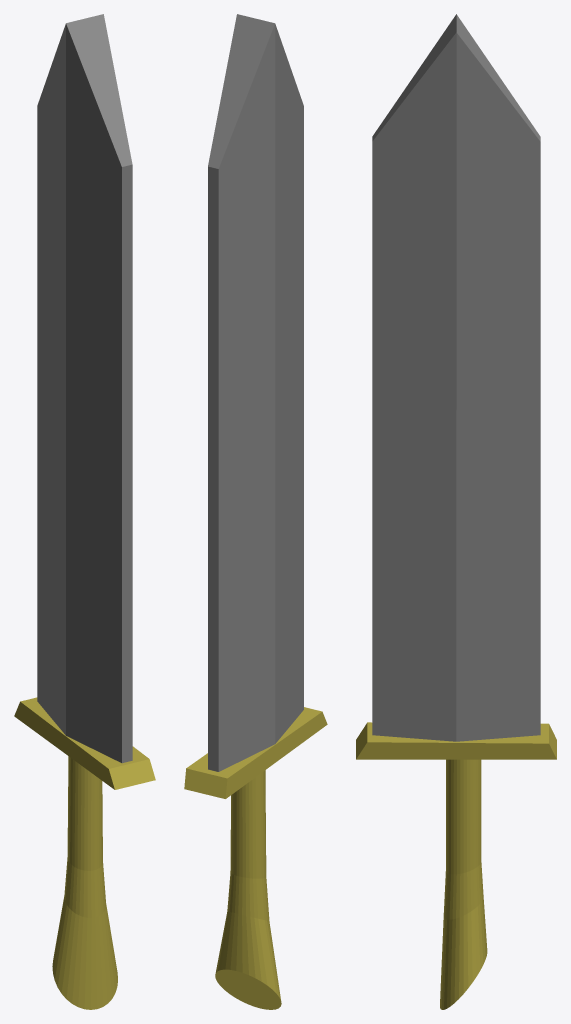
Rendered from NormalSword.fbx.
3 views of the same model, side by side, from view 1: azimuth 30°, elevation 25°; view 2: azimuth 150°, elevation 25°; view 3: azimuth 270°, elevation 25° (orthographic).
Visible parts, largest first — view 1: Cube.002, Cylinder.001, Cube.003; view 2: Cube.002, Cylinder.001, Cube.003; view 3: Cube.002, Cylinder.001, Cube.003.
Boxes of the visible parts, left/top/right/bottom form: Cube.002: left=37, top=14, right=132, bottom=763; Cylinder.001: left=52, top=756, right=117, bottom=1009; Cube.003: left=14, top=697, right=155, bottom=789; Cube.002: left=208, top=14, right=303, bottom=771; Cylinder.001: left=215, top=770, right=281, bottom=1009; Cube.003: left=184, top=707, right=327, bottom=798; Cube.002: left=372, top=14, right=540, bottom=741; Cylinder.001: left=440, top=759, right=487, bottom=1009; Cube.003: left=356, top=722, right=556, bottom=759.
Bounding box in the file's own units: 1608 × 24756 × 4593.
